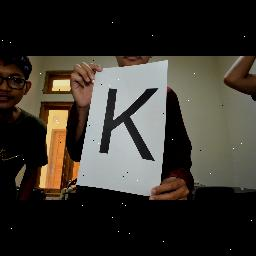k: (92, 82, 166, 174)
